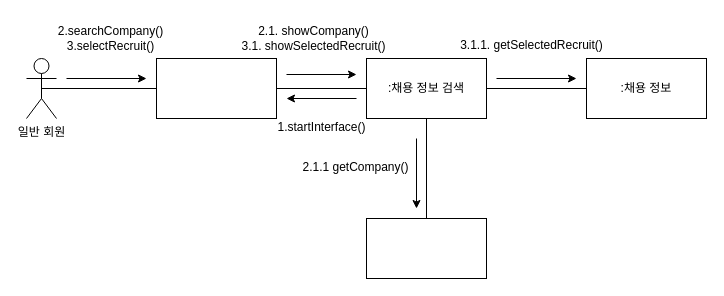
Some shapes in this 724 by 296 pixel diagram are drawn without their labels. Here are the shapes that lost their labels. From the top down, the centre of each, then its label:
the point at 216,88: :채용 정보 검색 UI
the point at 426,248: :Company
